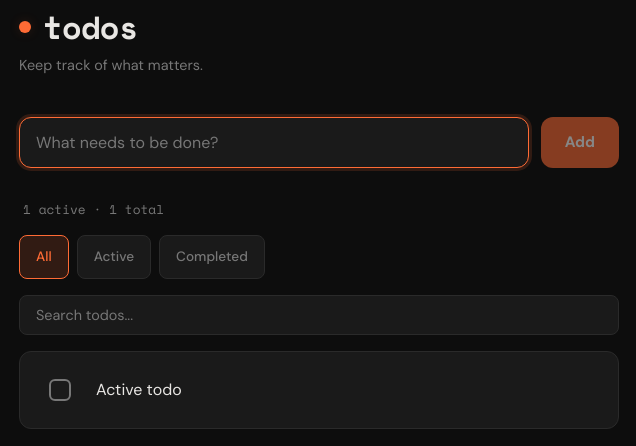
Scenario: App › shows contextual empty message when filter matches nothing
This screenshot has width=636, height=446.
expect the text "Active todo" is shown: met, box [96,379,182,400]
Click the button "Completed" at (212, 257), box [159,235,265,279]
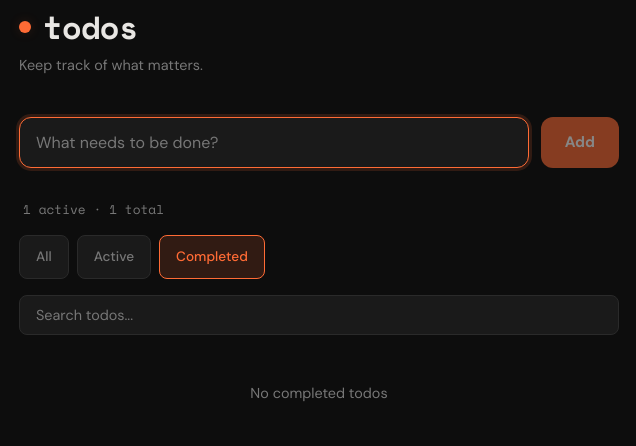
expect the text "No completed todos" is shown: met, box [250,384,388,402]
